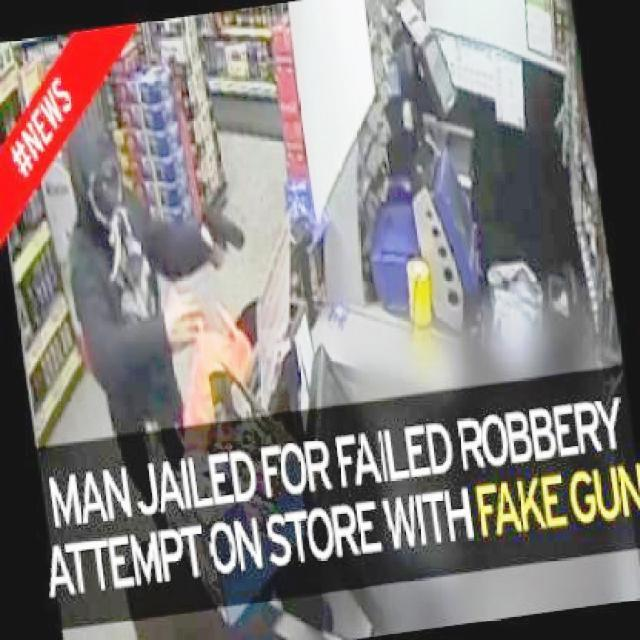Gun: (199, 186, 257, 264)
